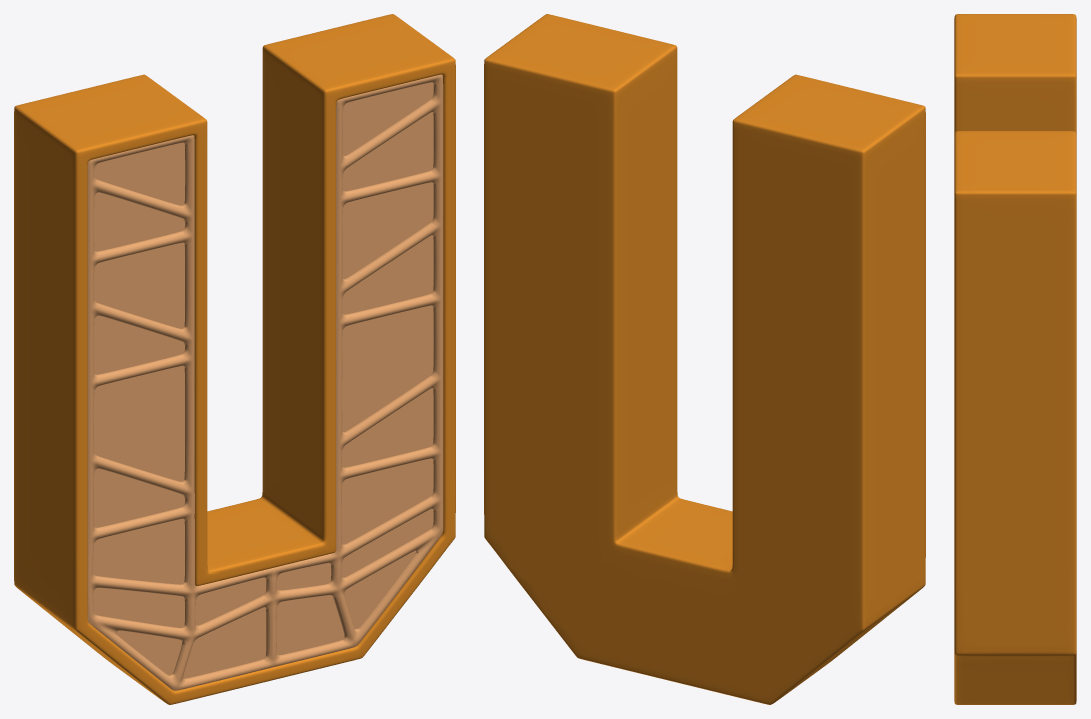
Rendered from U_nuevo.glb.
3 renders of one model, left to right at view 1: azimuth 30°, elevation 25°; view 2: azimuth 150°, elevation 25°; view 3: azimuth 270°, elevation 25°, orthographic. The views are drawn at different scales.
Visible parts, largest first — view 1: Text.022, Plane.023, Plane.056; view 2: Text.022; view 3: Text.022.
Boxes of the visible parts, left/top/right/bottom form: Text.022: left=14, top=14, right=455, bottom=704; Plane.023: left=93, top=82, right=433, bottom=678; Plane.056: left=87, top=74, right=443, bottom=690; Text.022: left=484, top=14, right=925, bottom=704; Text.022: left=954, top=14, right=1076, bottom=704.
Bounding box in the file's own units: 2.84 × 4.12 × 0.8192.
